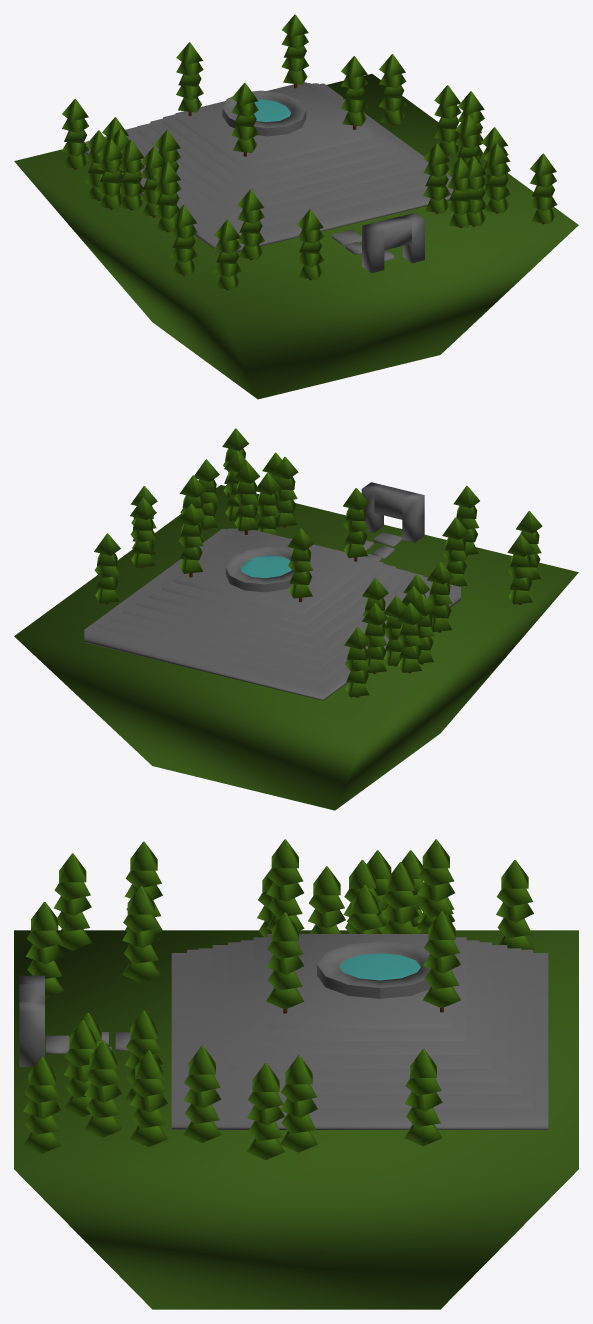
Rendered from _water_temple.fbx.
The picture shows the model from 3 angles, top to bottom: view 1: azimuth 30°, elevation 25°; view 2: azimuth 150°, elevation 25°; view 3: azimuth 270°, elevation 25°; orthographic projection. The views are drawn at different scales.
Visible parts, largest first — view 1: mesh35, mesh08, mesh01, mesh05, mesh04, mesh06, mesh02, mesh07, mesh36, mesh03, mesh09, mesh10; view 2: mesh35, mesh08, mesh01, mesh05, mesh04, mesh02, mesh06, mesh03, mesh07, mesh36, mesh09, mesh10; view 3: mesh35, mesh01, mesh08, mesh05, mesh04, mesh02, mesh03, mesh06, mesh07, mesh09, mesh36, mesh10 (+13 smaller).
Part boxes in pixels (box(x1,y1,x2,y2)): mesh35: box(14, 74, 578, 399); mesh08: box(175, 82, 372, 168); mesh01: box(85, 83, 453, 252); mesh05: box(125, 83, 424, 214); mesh04: box(137, 83, 410, 202); mesh06: box(150, 83, 397, 191); mesh02: box(104, 83, 449, 233); mesh07: box(163, 82, 384, 180); mesh36: box(362, 212, 424, 273); mesh03: box(136, 83, 429, 224); mesh09: box(222, 90, 306, 136); mesh10: box(254, 99, 290, 122); mesh35: box(14, 485, 578, 810); mesh08: box(174, 530, 371, 613); mesh01: box(84, 528, 460, 700); mesh05: box(122, 528, 423, 660); mesh04: box(136, 528, 409, 648); mesh02: box(97, 528, 430, 681); mesh06: box(149, 528, 395, 636); mesh03: box(109, 529, 432, 670); mesh07: box(162, 529, 383, 625); mesh36: box(361, 482, 424, 542); mesh09: box(225, 546, 293, 592); mesh10: box(240, 555, 291, 578); mesh35: box(14, 930, 578, 1309); mesh01: box(171, 953, 548, 1129); mesh08: box(267, 934, 452, 1028); mesh05: box(212, 945, 507, 1082); mesh04: box(228, 942, 491, 1068); mesh02: box(187, 949, 532, 1107); mesh03: box(198, 948, 521, 1093); mesh06: box(240, 940, 479, 1054); mesh07: box(253, 937, 466, 1040); mesh09: box(317, 941, 430, 998); mesh36: box(19, 975, 44, 1066); mesh10: box(339, 953, 420, 980).
Bounding box in the file's own units: 8.56 × 6.19 × 8.52.
